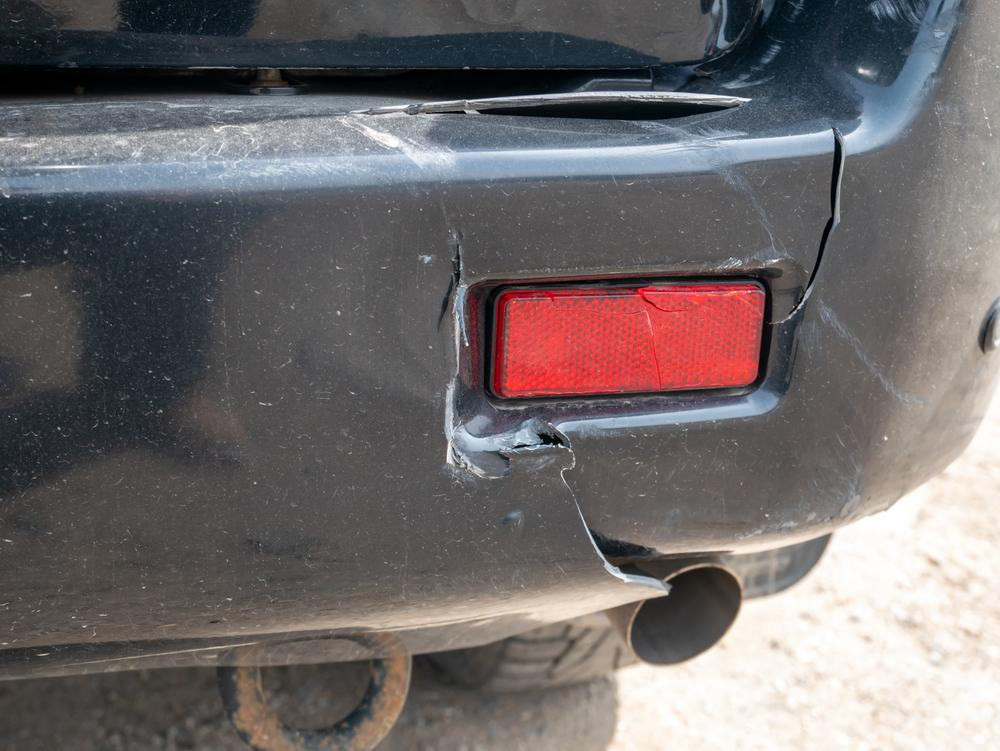crack: (448, 423, 663, 592), (783, 116, 851, 325), (539, 291, 682, 384), (354, 96, 749, 123)
